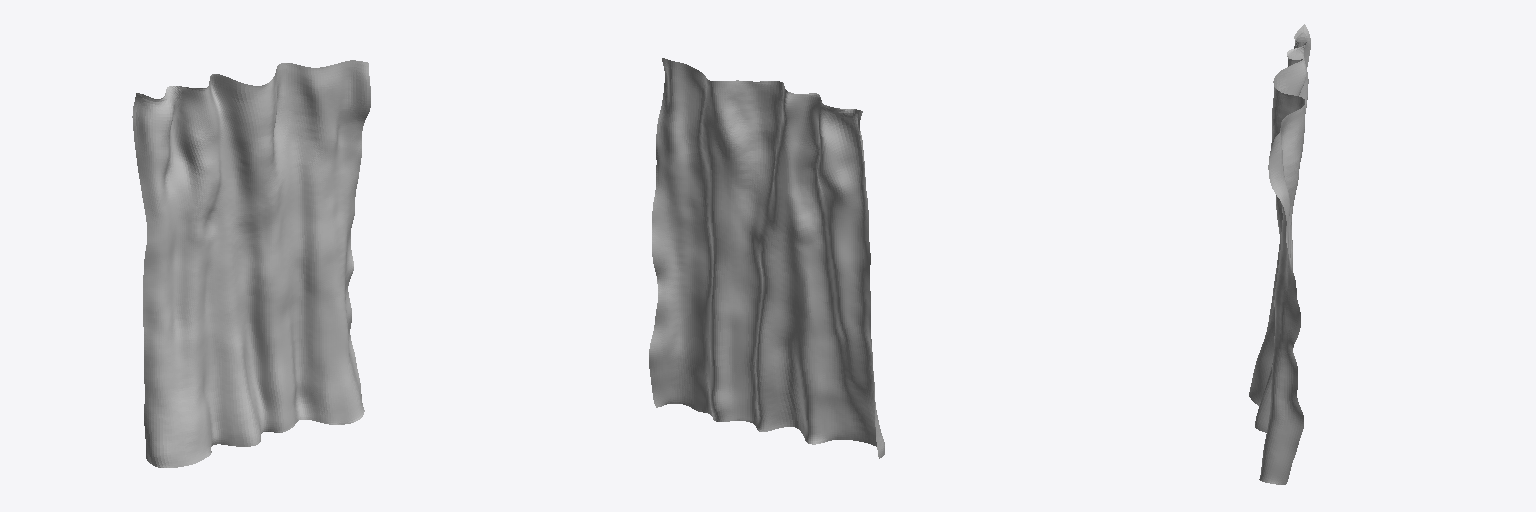
File: SM_Curtain_highpoly_02_3.OBJ
The picture shows the model from 3 angles: view 1: azimuth 30°, elevation 25°; view 2: azimuth 150°, elevation 25°; view 3: azimuth 270°, elevation 25°; orthographic projection.
Visible parts, largest first — view 1: Group1; view 2: Group1; view 3: Group1.
Boxes of the visible parts, x1,y1,x2,y2 form: Group1: [132, 60, 370, 467]; Group1: [649, 58, 884, 458]; Group1: [1249, 24, 1310, 484].
Size of the model in its own units: 2.16 by 3.4 by 0.5255.